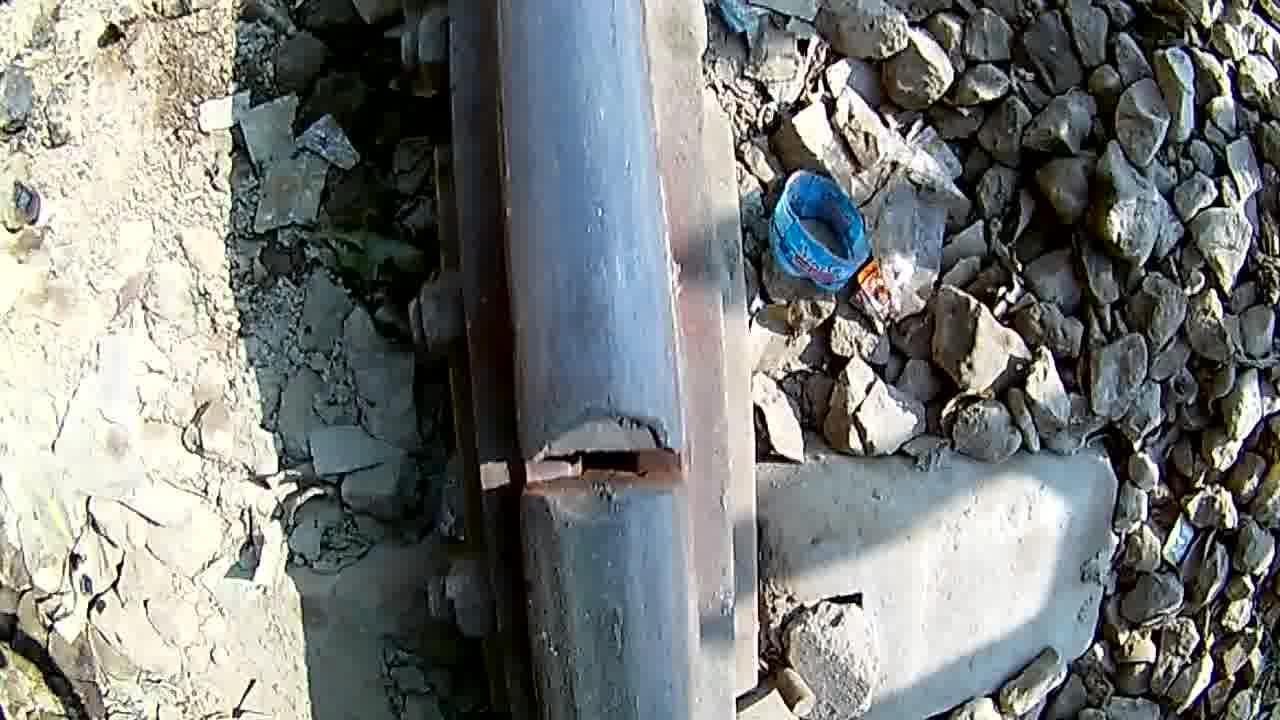crack: (496, 353, 689, 569)
